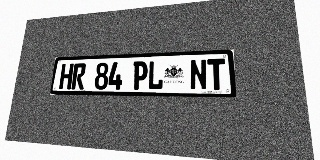4: (108, 62, 123, 90)
8: (94, 62, 110, 90)
H: (59, 63, 74, 89)
L: (147, 60, 164, 90)
N: (190, 59, 207, 90)
P: (132, 61, 148, 90)
R: (71, 63, 86, 89)
T: (207, 58, 226, 90)
